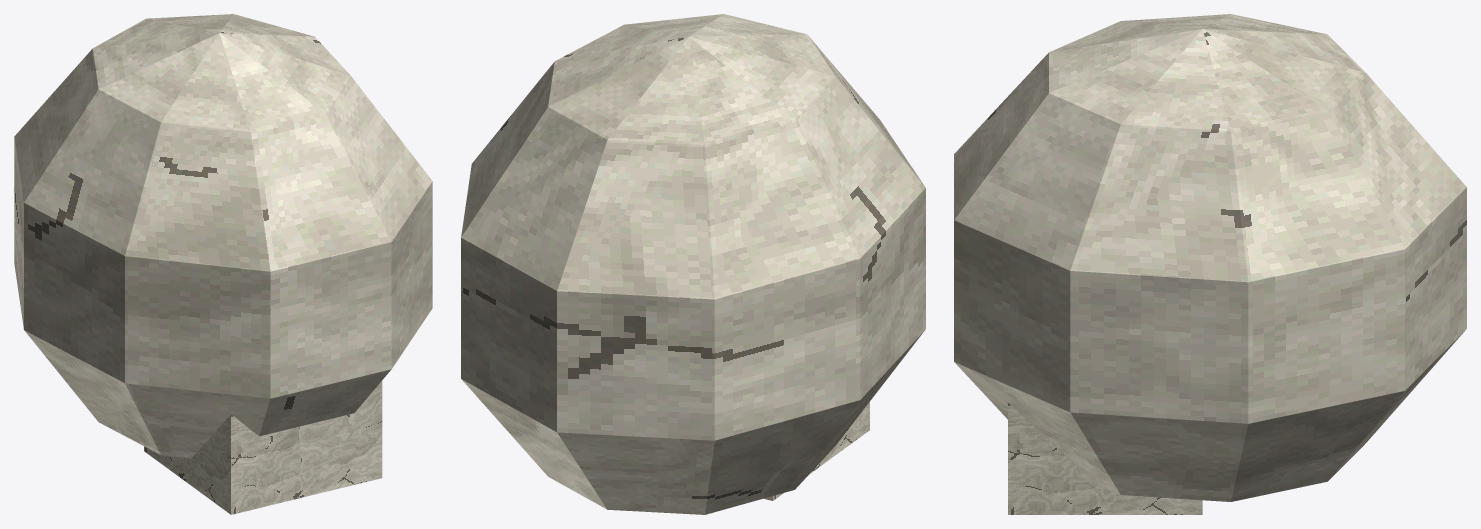
File: ruinas_cranio.glb
3 renders of one model, left to right at view 1: azimuth 30°, elevation 25°; view 2: azimuth 150°, elevation 25°; view 3: azimuth 270°, elevation 25°, orthographic. The views are drawn at different scales.
Parts seen in each view (by area): view 1: ruinas_cranio; view 2: ruinas_cranio; view 3: ruinas_cranio.
Part boxes in pixels (<box>): ruinas_cranio: <box>14,14,432,514</box>; ruinas_cranio: <box>461,14,925,514</box>; ruinas_cranio: <box>954,14,1466,514</box>.
Size of the model in its own units: 0.2313 by 0.26 by 0.2638.
1 material, 1 textured.
